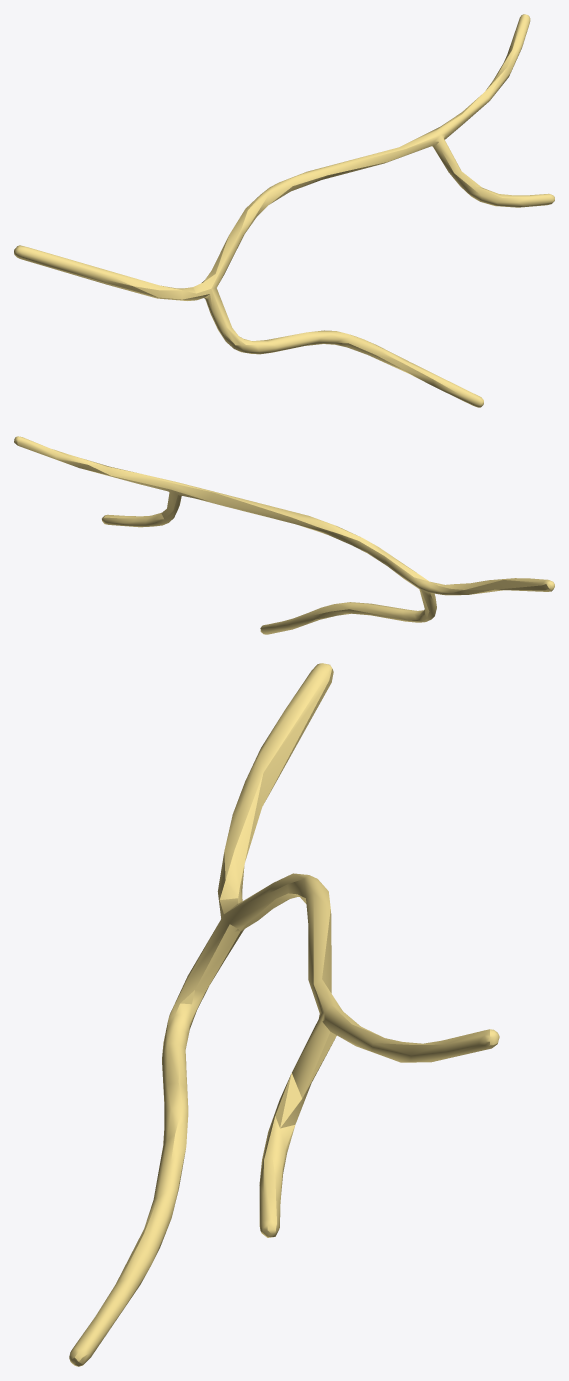
Rendered from fma8922_fj4209.glb.
3 views of the same model, one above another, from view 1: azimuth 30°, elevation 25°; view 2: azimuth 150°, elevation 25°; view 3: azimuth 270°, elevation 25° (orthographic). The views are drawn at different scales.
Visible parts, largest first — view 1: FMA8922_FJ4209; view 2: FMA8922_FJ4209; view 3: FMA8922_FJ4209.
Part boxes in pixels (box(x1,y1,x2,y2)): FMA8922_FJ4209: box(14, 14, 554, 407); FMA8922_FJ4209: box(14, 436, 554, 634); FMA8922_FJ4209: box(69, 663, 499, 1366).
Size of the model in its own units: 0.0274 by 0.0125 by 0.0103.
